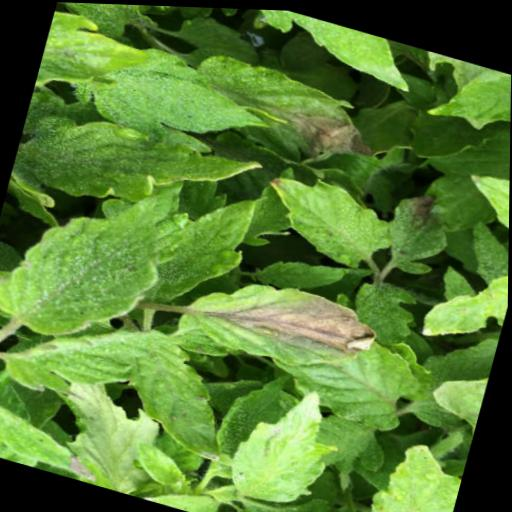Leaf Mold: (170, 256, 381, 396), (169, 42, 386, 176), (377, 178, 460, 276)
